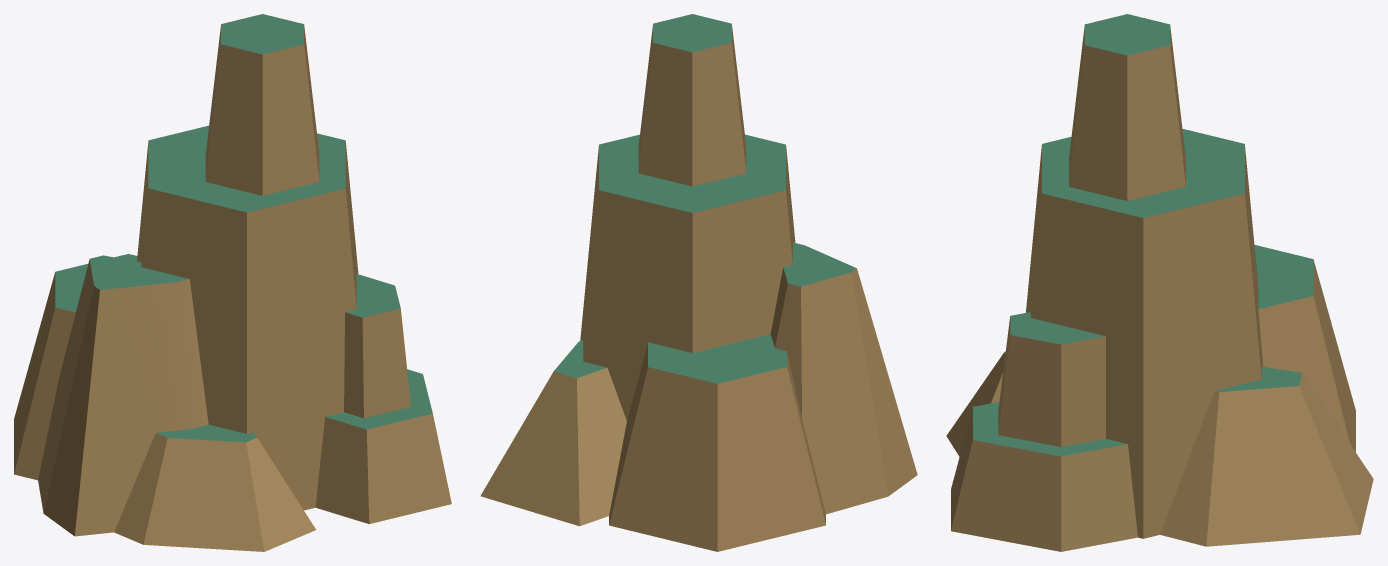
The model's file is naturePack_059.fbx.
The picture shows the model from 3 angles, left to right: view 1: azimuth 30°, elevation 25°; view 2: azimuth 150°, elevation 25°; view 3: azimuth 270°, elevation 25°; orthographic projection. The views are drawn at different scales.
Visible parts, largest first — view 1: Mesh1_Group1 Model; view 2: Mesh1_Group1 Model; view 3: Mesh1_Group1 Model.
Boxes of the visible parts, left/top/right/bottom form: Mesh1_Group1 Model: left=14, top=14, right=451, bottom=551; Mesh1_Group1 Model: left=480, top=14, right=917, bottom=551; Mesh1_Group1 Model: left=946, top=14, right=1373, bottom=551.
Size of the model in its own units: 2.12 by 2.45 by 2.13.
